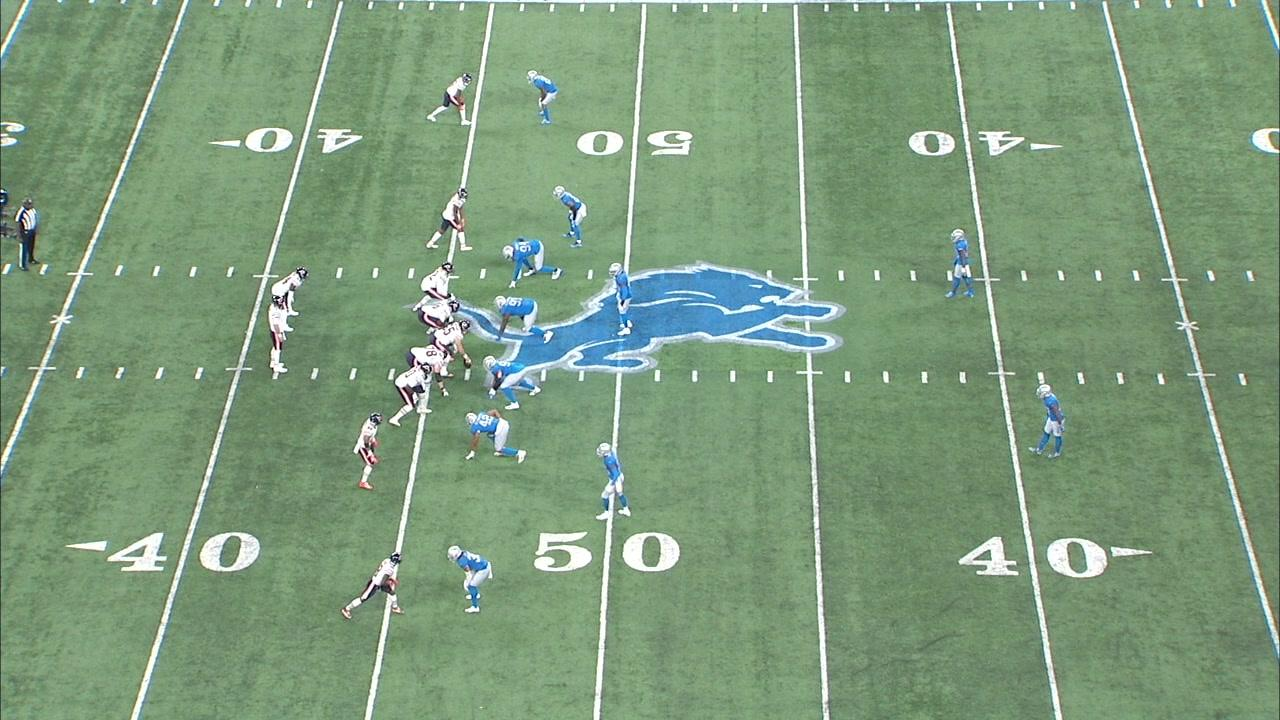player: (340, 546, 407, 625), (447, 541, 497, 617), (1028, 379, 1071, 467), (465, 409, 529, 464), (501, 235, 563, 290), (594, 439, 633, 524), (425, 317, 475, 383), (425, 187, 473, 254), (493, 292, 556, 343), (385, 364, 434, 426), (483, 357, 541, 408), (405, 344, 452, 401), (270, 266, 309, 334), (425, 72, 473, 126), (263, 293, 291, 380), (353, 411, 382, 494), (412, 262, 456, 313), (946, 223, 975, 298), (553, 185, 588, 246), (526, 69, 562, 125), (610, 262, 633, 340), (415, 298, 463, 335)
ref: (15, 194, 37, 278)
